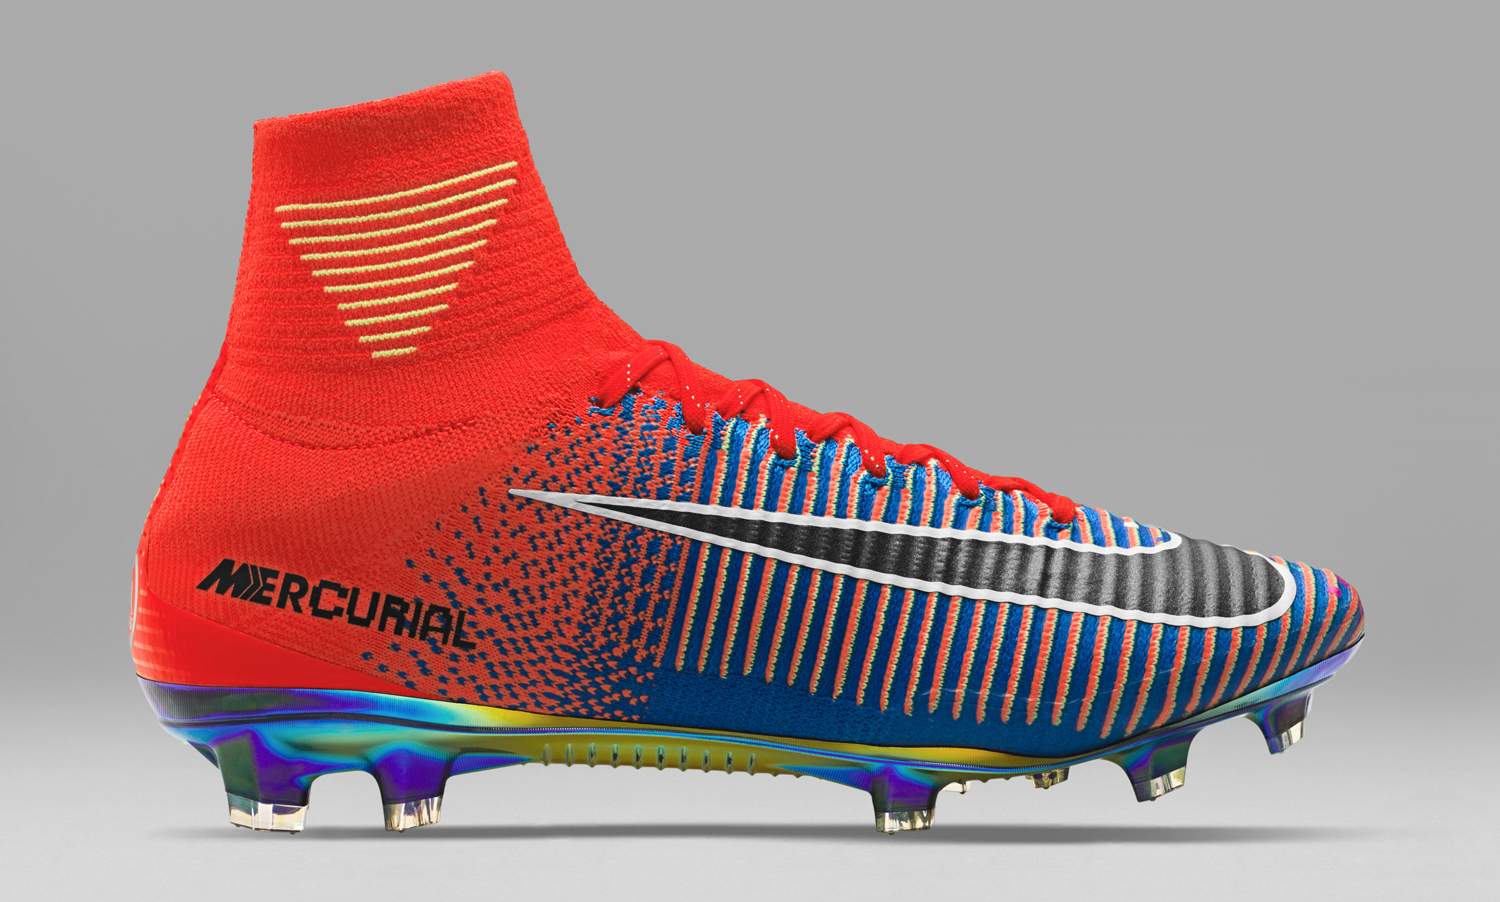football boots: (131, 74, 1365, 832)
